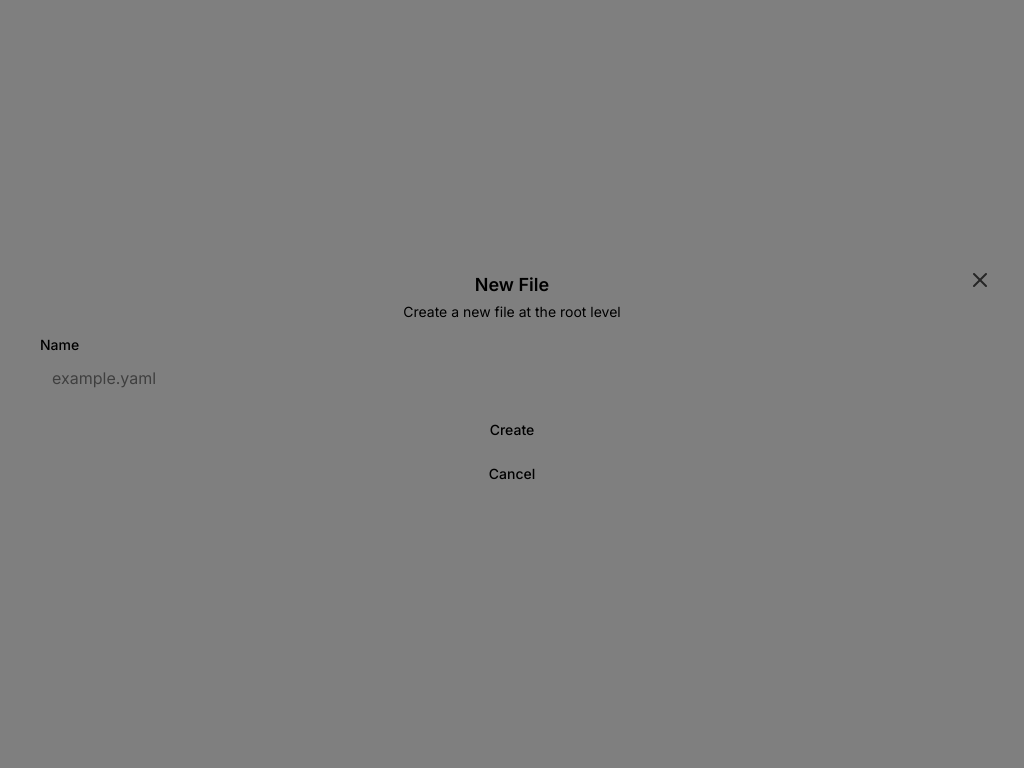
Test: NewItemDialog › should show error message on submission failure
Type "new-file.yaml" into the field at (512, 378), box x1=40 y1=360 x2=984 y2=396
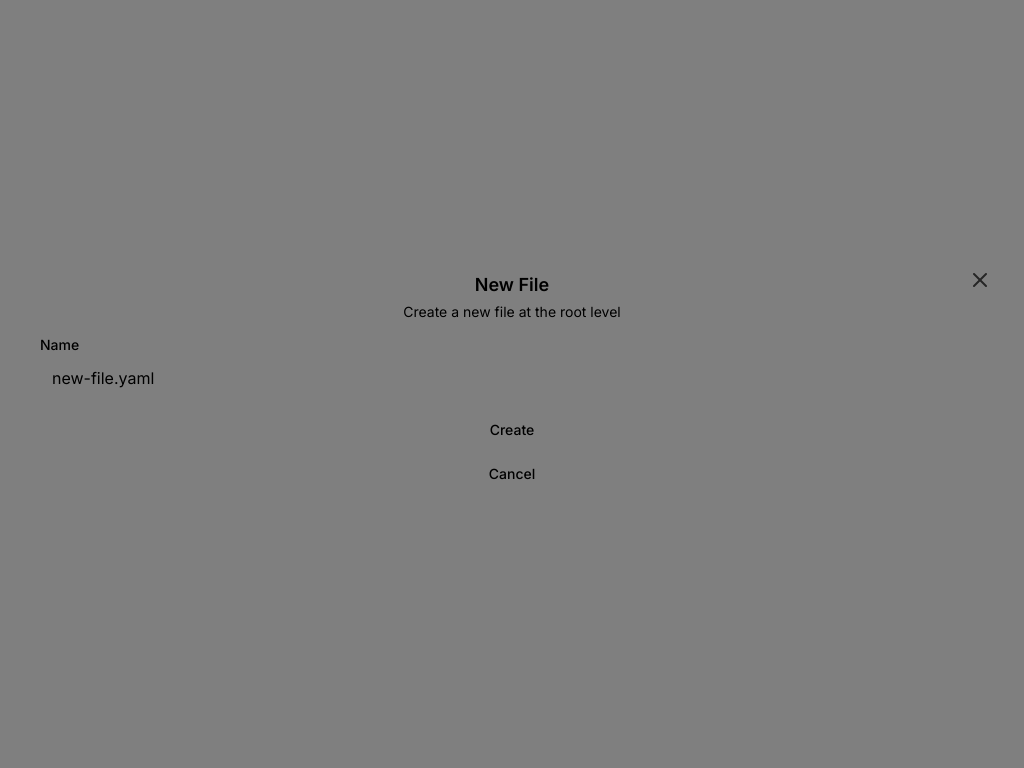
Click the button "Create" at (512, 430), box x1=40 y1=412 x2=984 y2=448
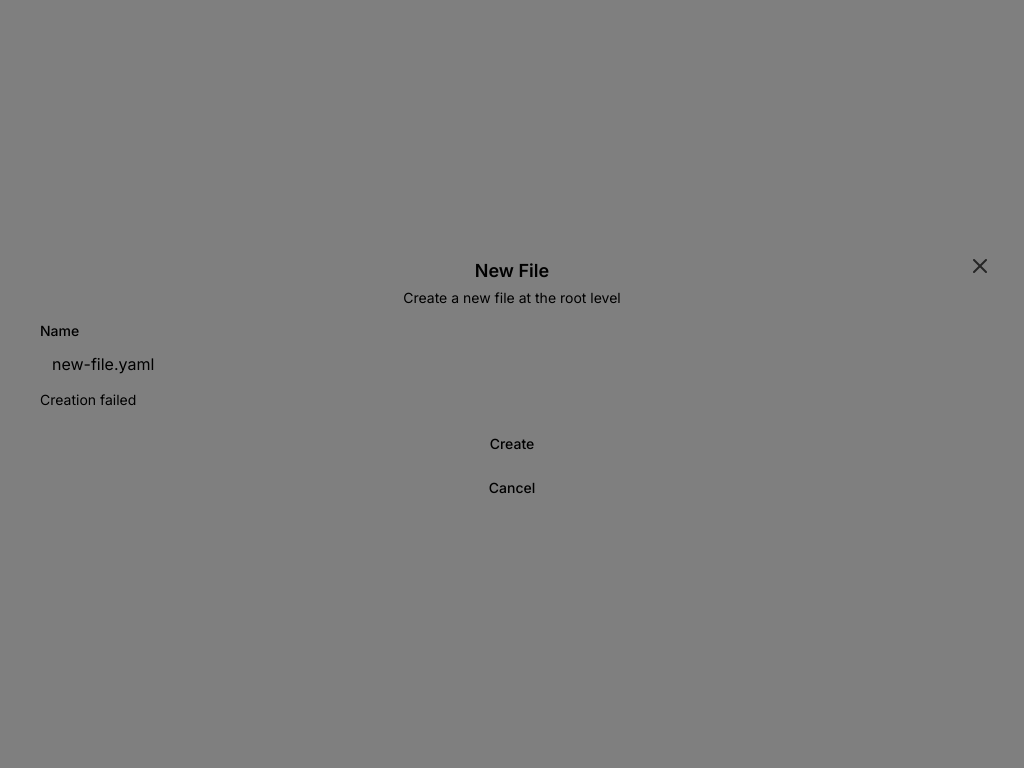
Now the text "Creation failed" is shown, box x1=40 y1=391 x2=136 y2=408
